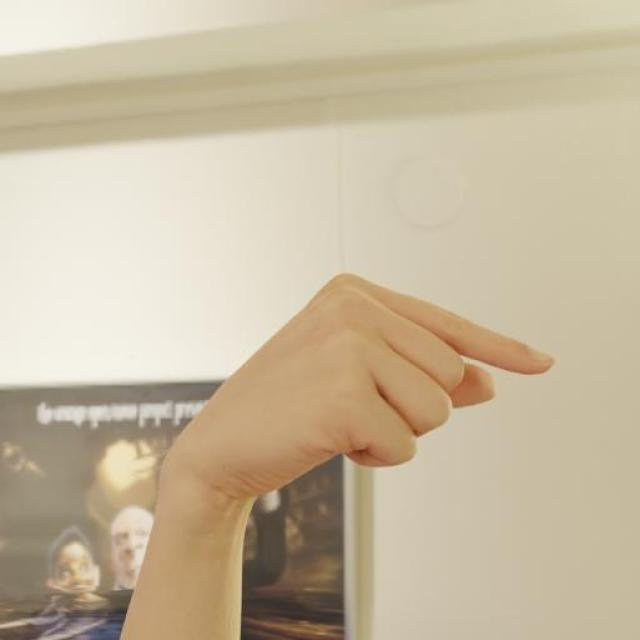G: (162, 267, 562, 503)
